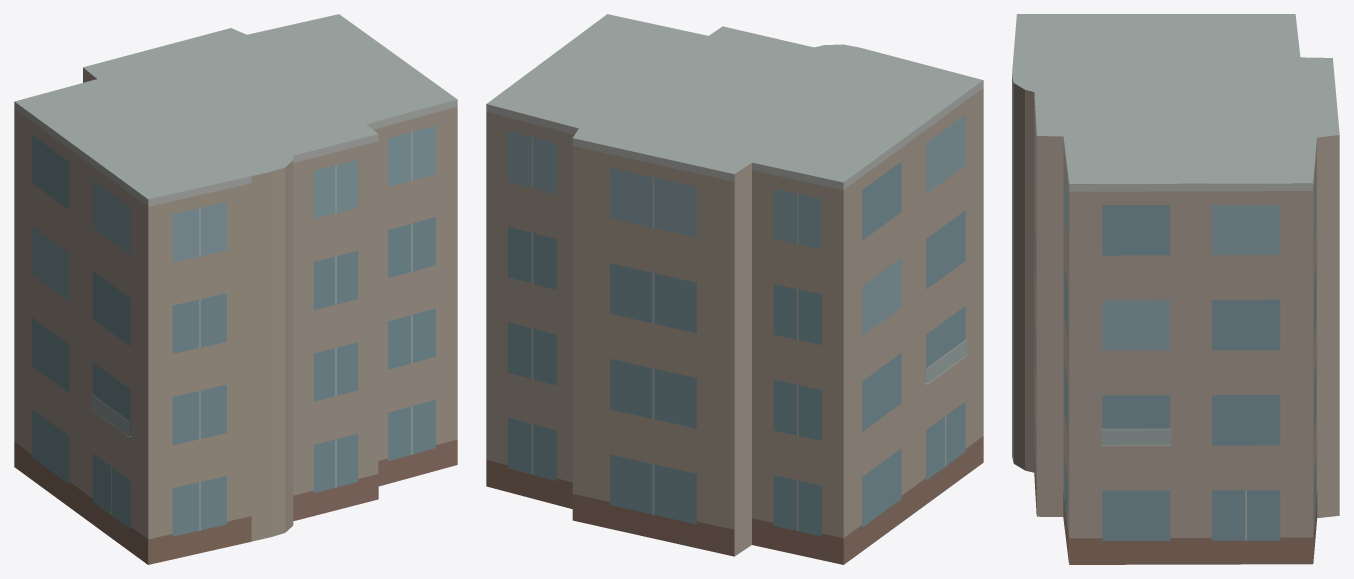
Rendered from survey-upis-32610623.glb.
The picture shows the model from 3 angles, left to right: view 1: azimuth 30°, elevation 25°; view 2: azimuth 150°, elevation 25°; view 3: azimuth 270°, elevation 25°; orthographic projection. The views are drawn at different scales.
Parts seen in each view (by area): view 1: survey-upis-32610623.tmp; view 2: survey-upis-32610623.tmp; view 3: survey-upis-32610623.tmp.
Boxes of the visible parts, left/top/right/bottom form: survey-upis-32610623.tmp: left=14, top=14, right=457, bottom=564; survey-upis-32610623.tmp: left=486, top=14, right=983, bottom=564; survey-upis-32610623.tmp: left=1012, top=14, right=1339, bottom=564.
Bounding box in the file's own units: 11.76 × 12.2 × 9.52.
